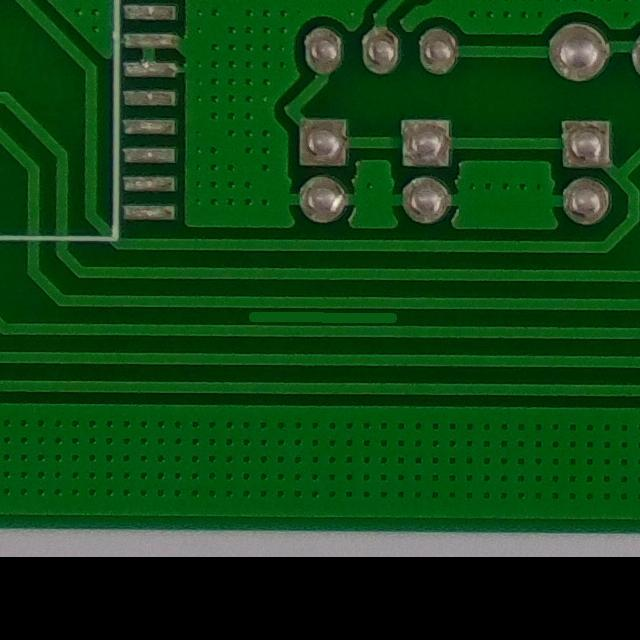spurious_copper: (236, 288, 405, 352)
